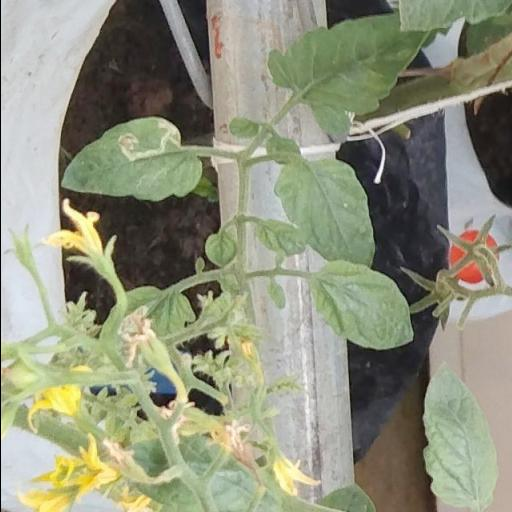disease_tomato: (56, 118, 205, 202)
